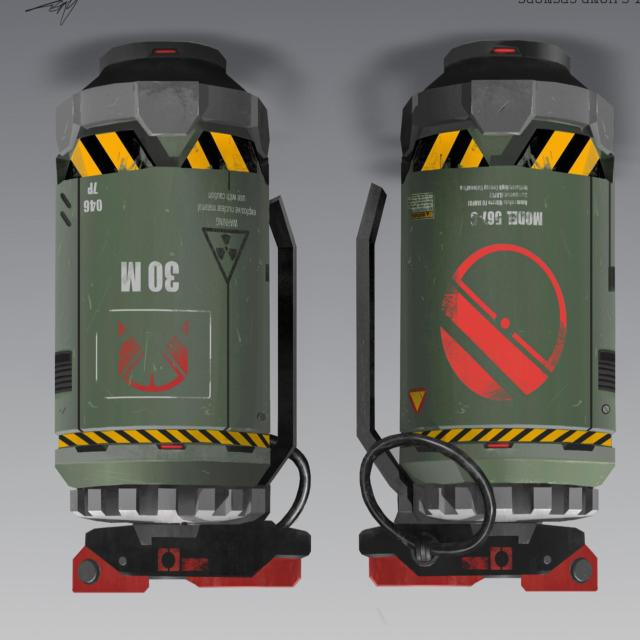grenade: (357, 40, 616, 597), (54, 42, 313, 595)
